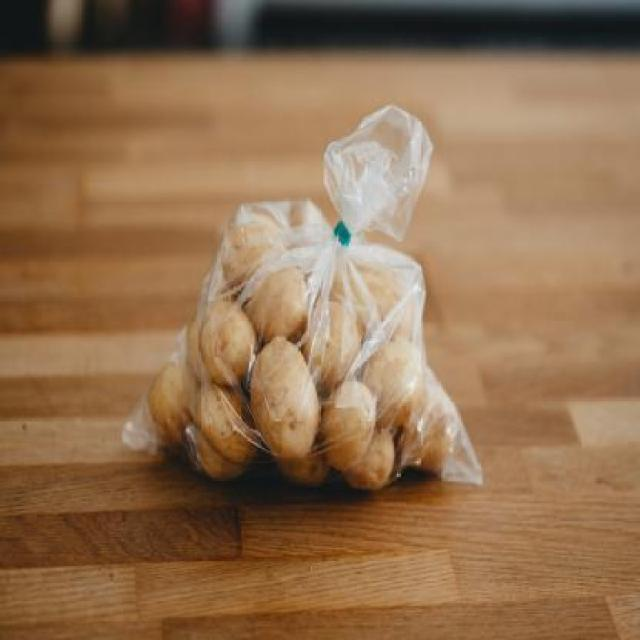plastic bag: (115, 105, 492, 507)
